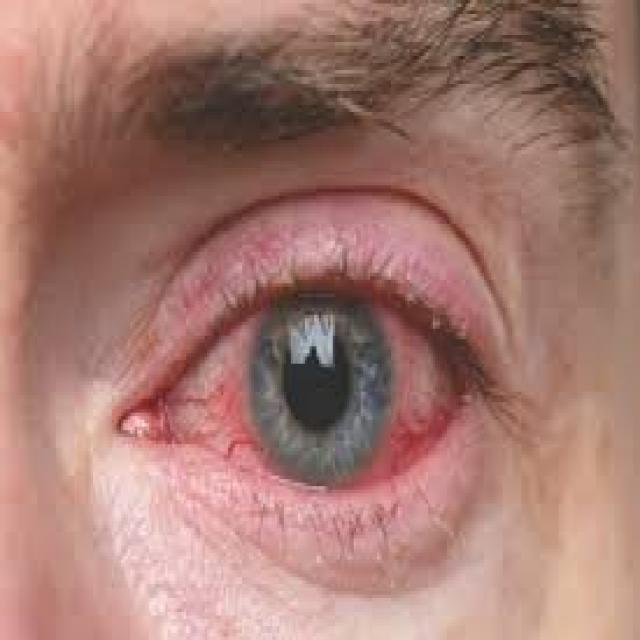Rosacea: (125, 228, 510, 498)
